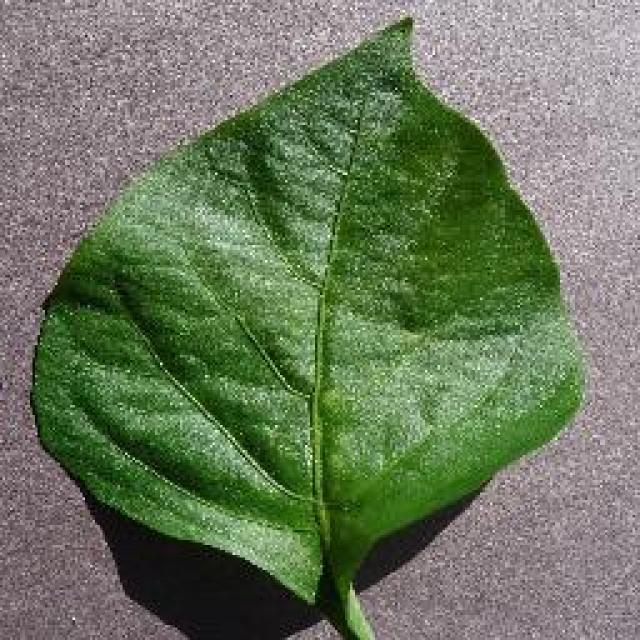Chilli_Healthy: (28, 12, 588, 638)
